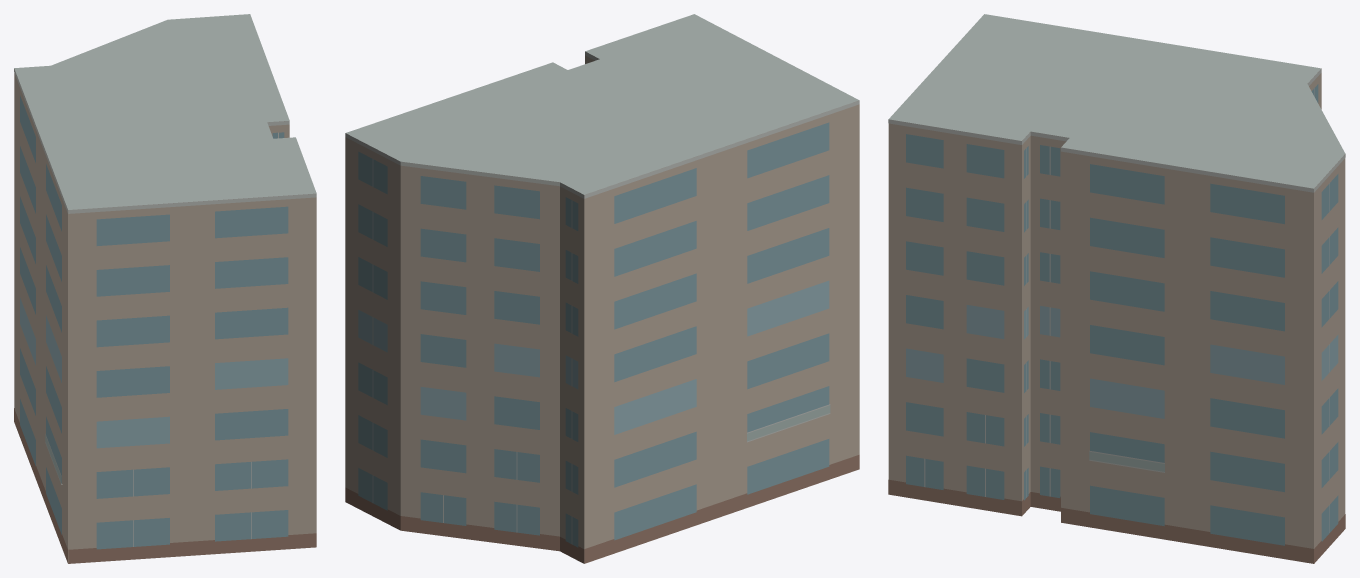
File: survey-upis-32987216.glb
3 renders of one model, left to right at view 1: azimuth 30°, elevation 25°; view 2: azimuth 150°, elevation 25°; view 3: azimuth 270°, elevation 25°, orthographic. The views are drawn at different scales.
Visible parts, largest first — view 1: survey-upis-32987216.tmp; view 2: survey-upis-32987216.tmp; view 3: survey-upis-32987216.tmp.
Boxes of the visible parts, x1,y1,x2,y2 form: survey-upis-32987216.tmp: (14,14,316,563); survey-upis-32987216.tmp: (345,14,859,563); survey-upis-32987216.tmp: (888,14,1345,563).
Size of the model in its own units: 22.31 by 22.34 by 24.67.
